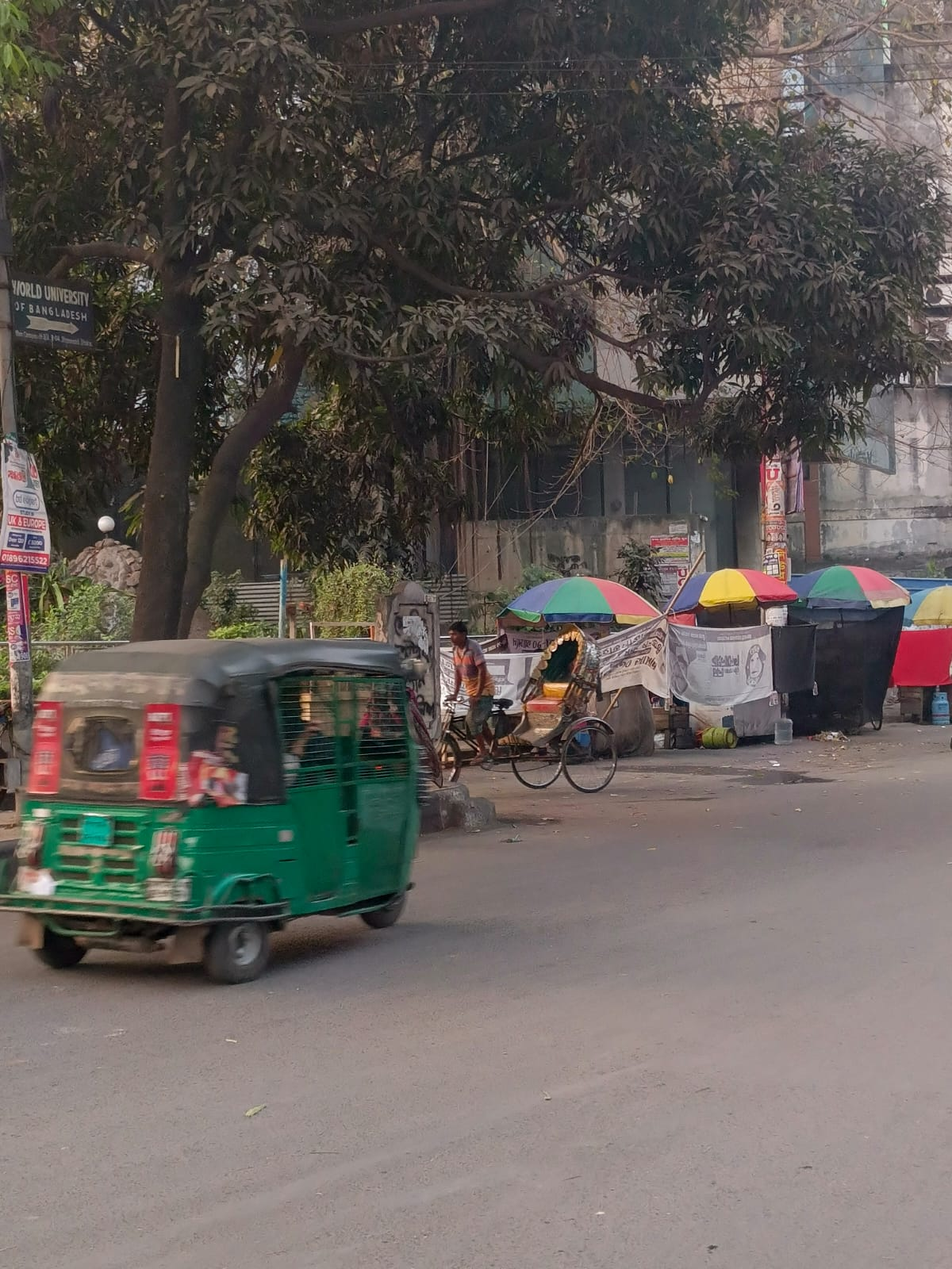cng: (16, 620, 423, 962)
